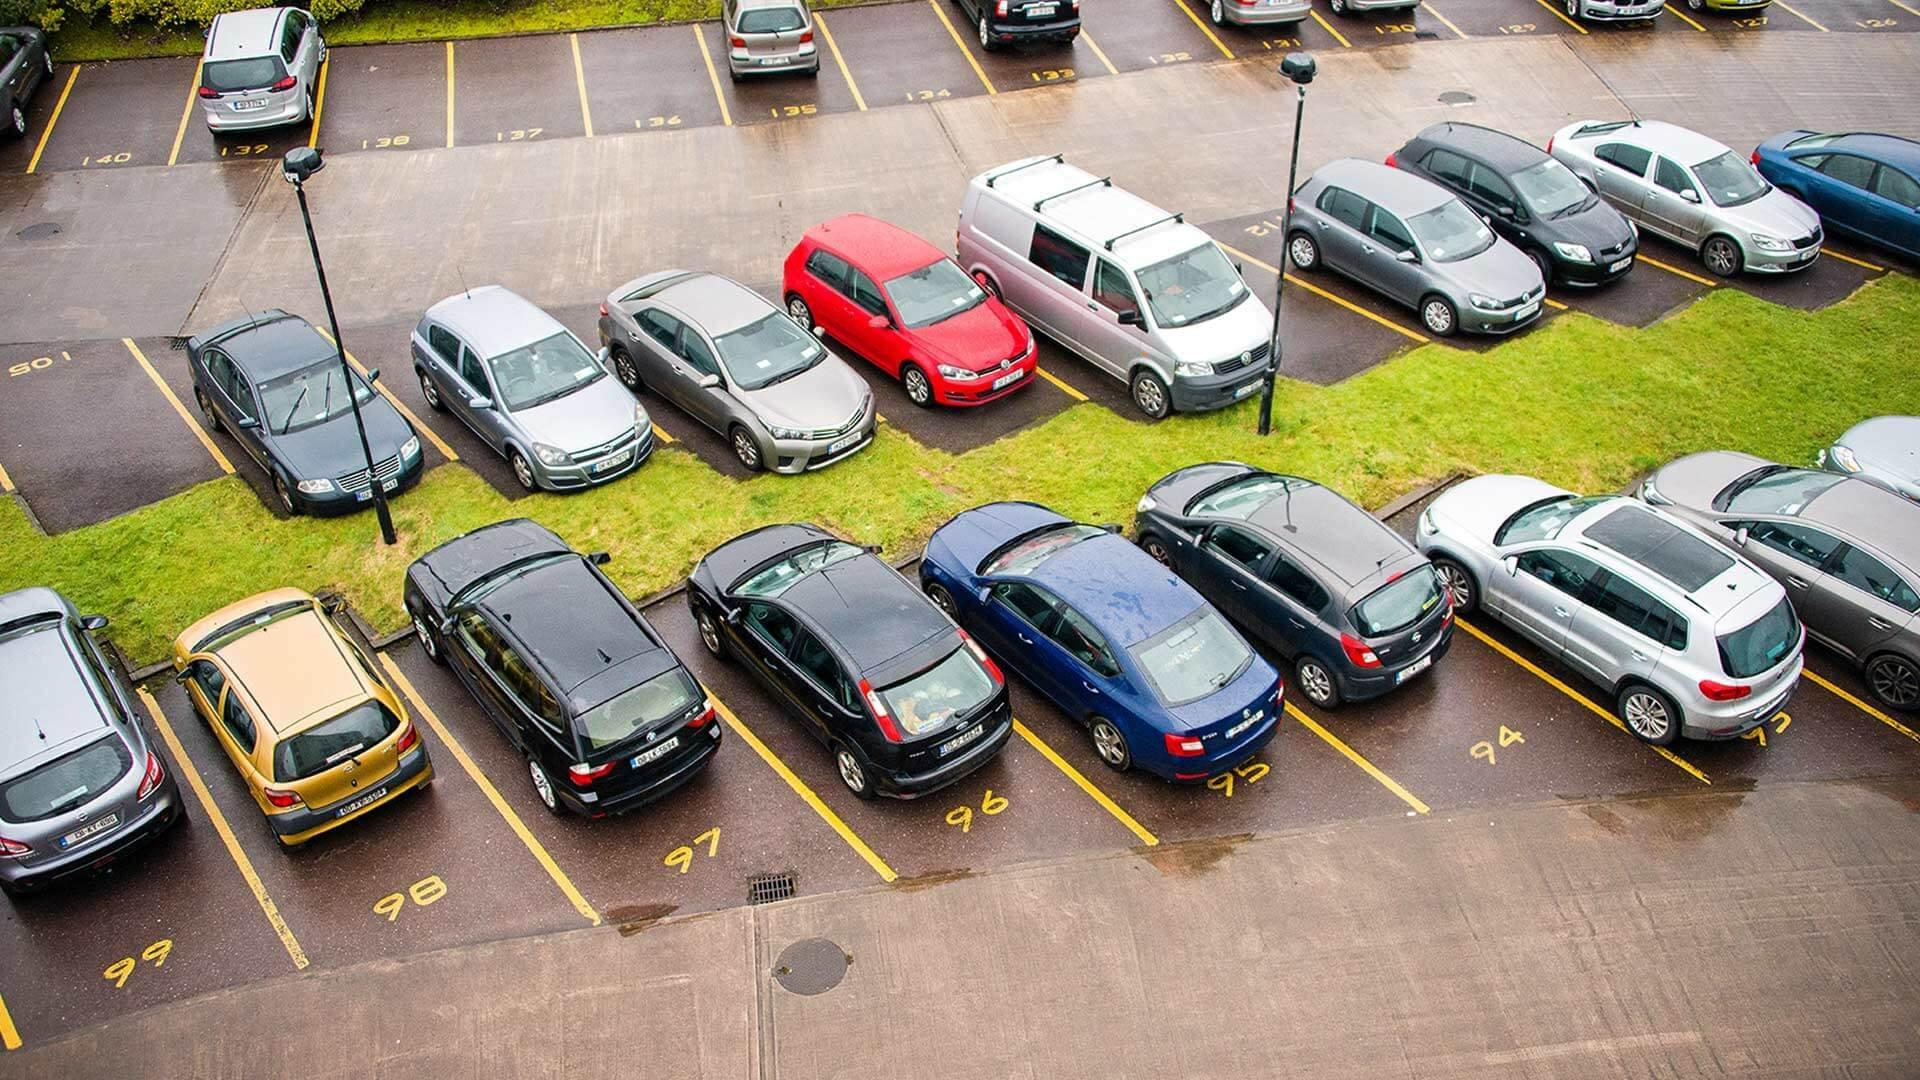empty: (1447, 476, 1820, 758), (433, 525, 738, 828), (967, 500, 1286, 778), (709, 527, 1030, 798), (997, 167, 1300, 414), (1171, 458, 1458, 716), (193, 588, 448, 851), (0, 587, 171, 901), (411, 290, 671, 487), (620, 266, 874, 465), (1734, 451, 1920, 716), (187, 314, 427, 517), (793, 216, 1036, 409), (1287, 169, 1540, 331), (1584, 131, 1830, 281), (1428, 133, 1647, 298), (177, 7, 330, 145), (1788, 135, 1920, 276), (702, 0, 847, 88), (1, 12, 63, 179), (938, 0, 1092, 61), (1490, 1, 1673, 32), (1172, 1, 1316, 40), (1305, 1, 1445, 32)
occupied: (1192, 204, 1319, 320), (15, 392, 167, 472), (469, 58, 567, 121), (78, 91, 169, 150), (604, 49, 699, 104), (853, 24, 948, 76), (347, 69, 431, 127), (1096, 5, 1183, 49)
